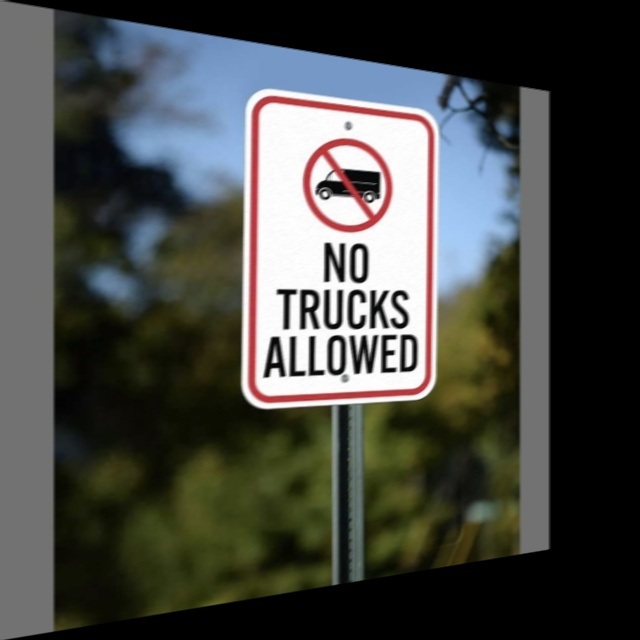Truck_Prohibited: (285, 119, 420, 242)
